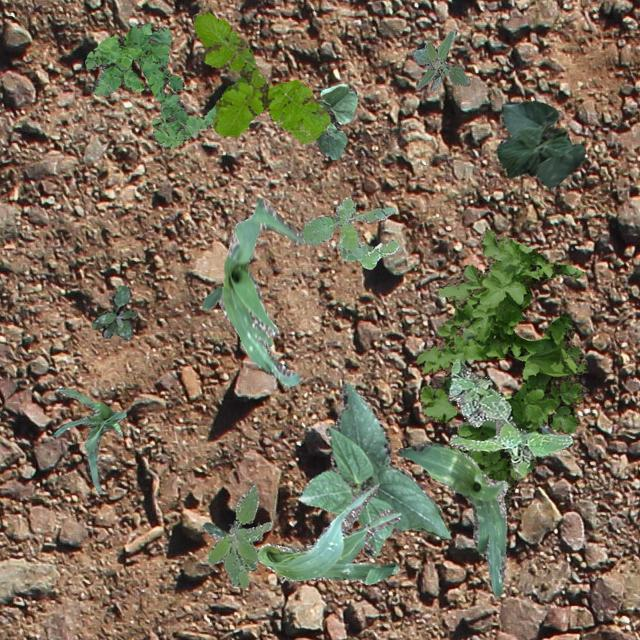crop: (298, 380, 450, 558), (202, 482, 400, 584), (202, 198, 304, 386), (396, 440, 506, 594), (50, 384, 124, 492), (496, 100, 584, 186), (314, 82, 356, 158), (457, 418, 553, 433)
weed: (416, 228, 588, 514), (192, 5, 330, 142), (84, 22, 215, 148), (448, 358, 572, 478), (300, 196, 398, 268), (206, 484, 272, 586), (412, 28, 469, 88), (90, 284, 136, 338)
